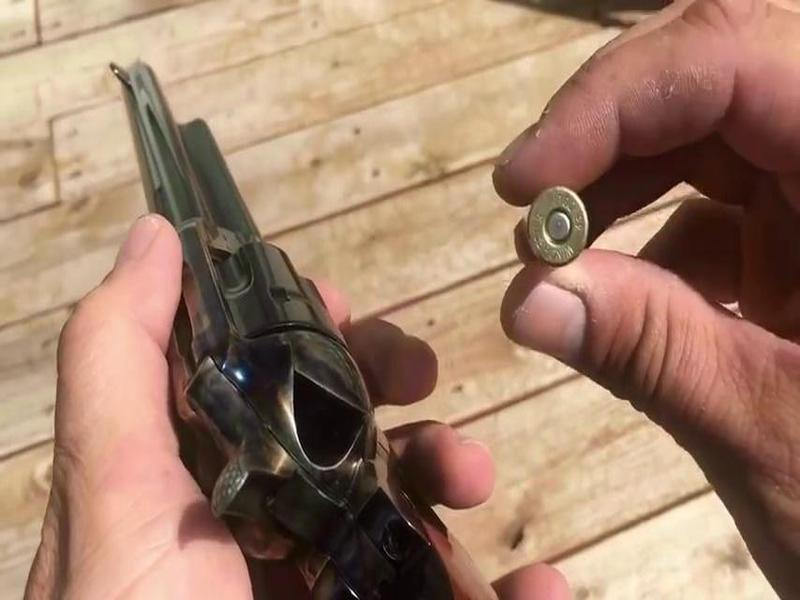Revolver: (71, 62, 409, 600)
